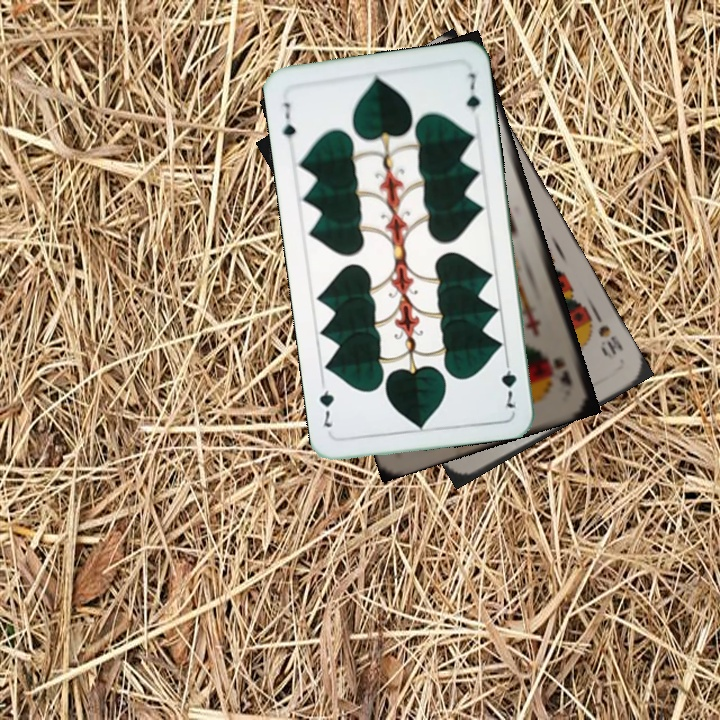G7: (497, 353, 519, 413), (279, 98, 299, 141)
S10: (590, 309, 626, 358)
SK: (550, 354, 575, 389)
